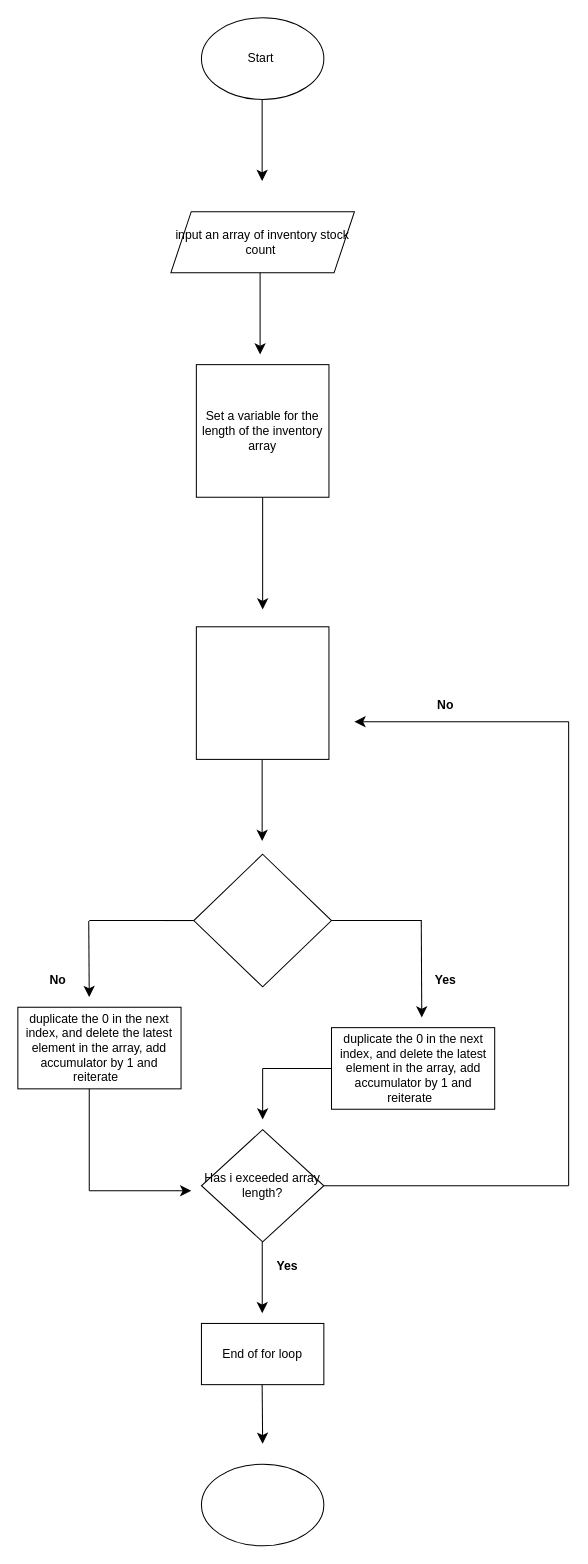
This 588x1564 diagram has some shape labels left out. The shapes that lost their labels are listed below. From the top down, each one's box as (x1, y1, x2, y2) in pixels, then its label:
(195, 626, 329, 759): run iterative loop until the accumulator "i" exceeds array length
(193, 853, 332, 987): is the ith index in the array 0?
(200, 1463, 324, 1546): Stop
